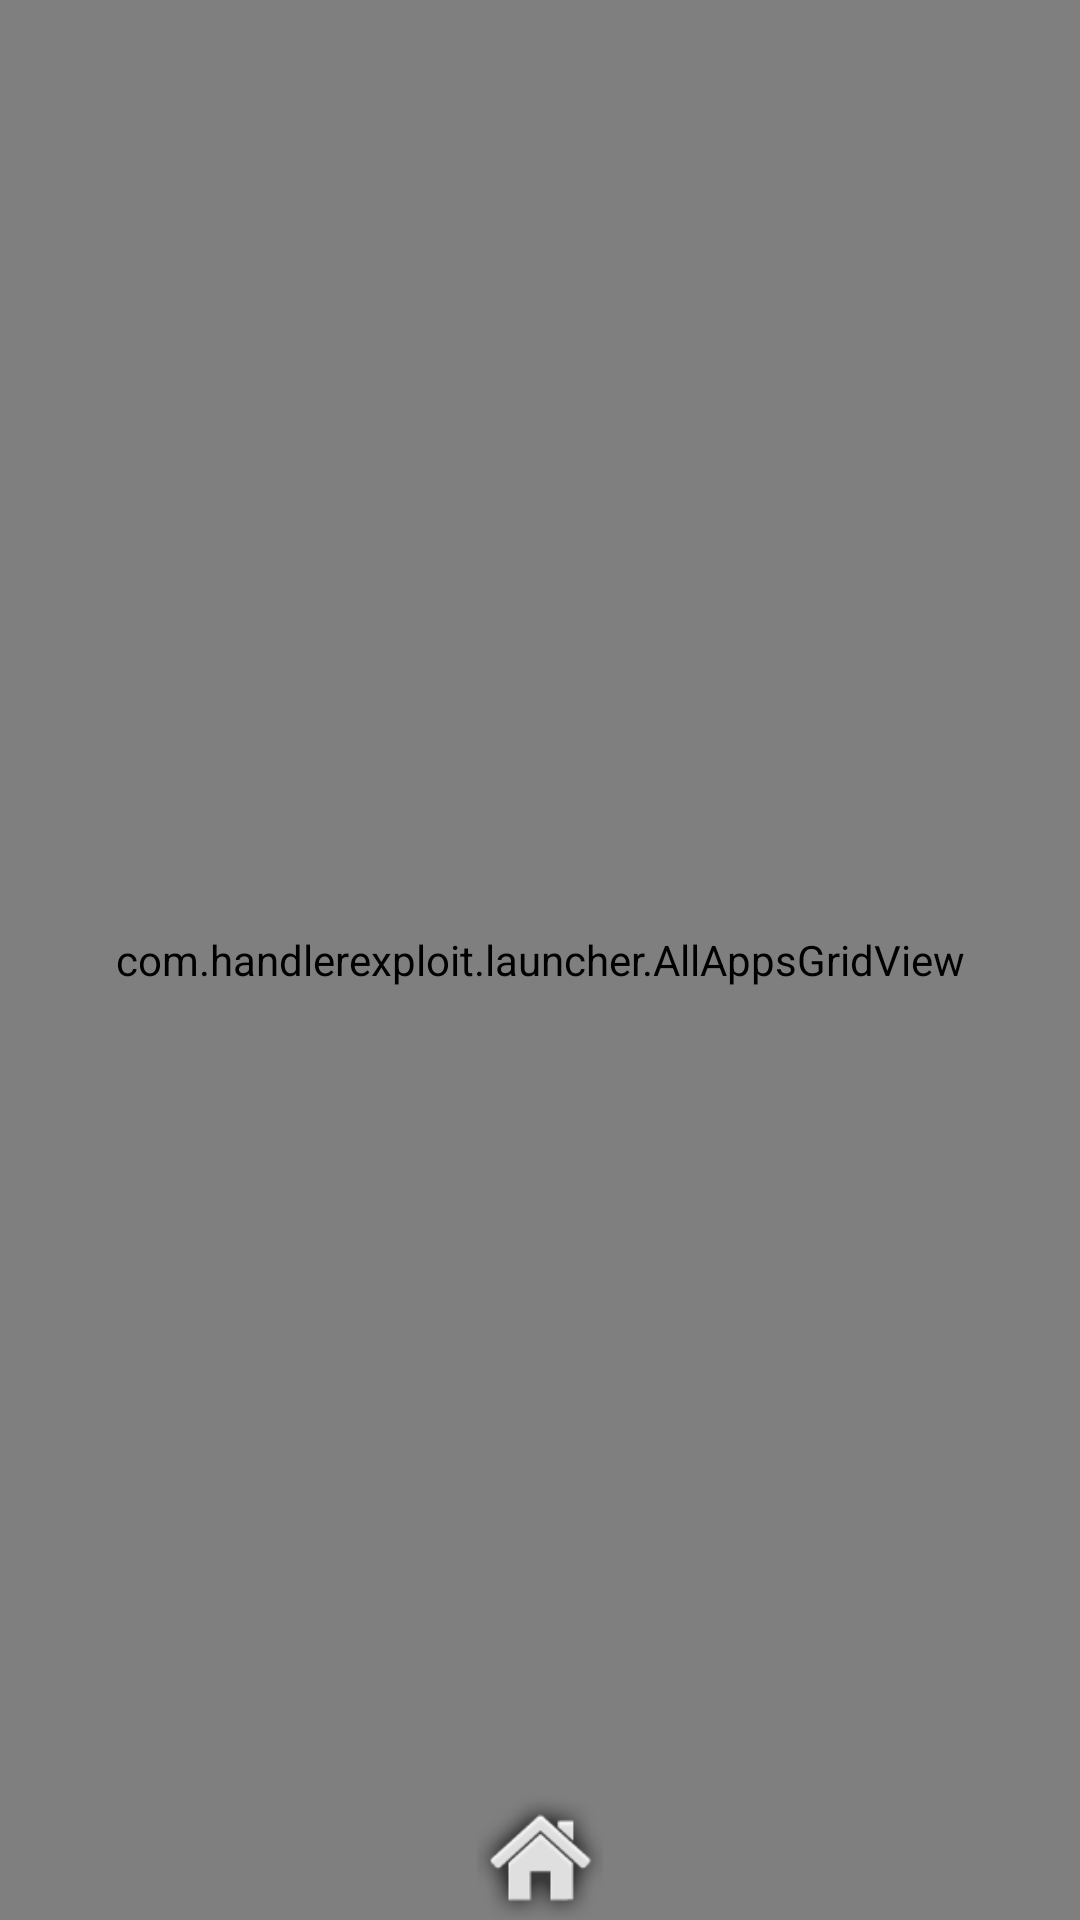

Icons on this 1080*1920 Android screen, each with its box as (x1, y1, x2, y2):
home: (488, 1810, 591, 1906)
